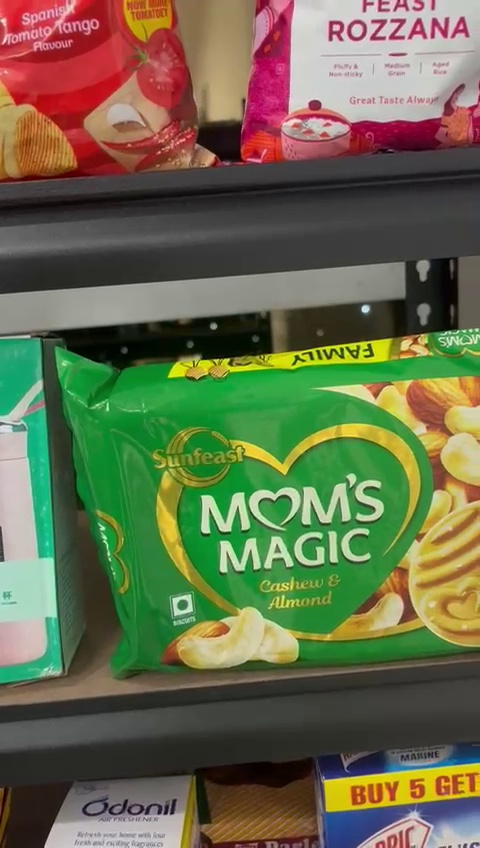Moms magic: (73, 366, 480, 660)
